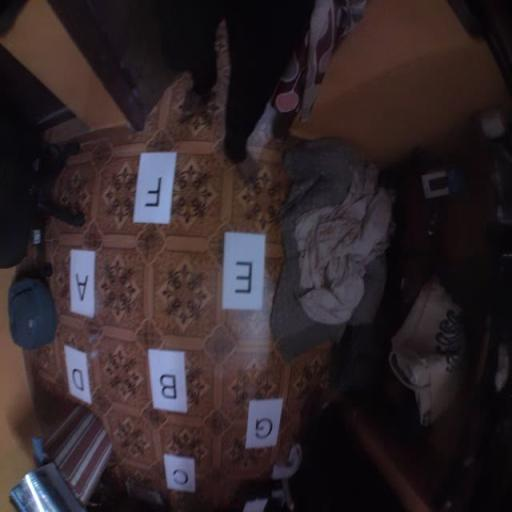A: (70, 248, 96, 319)
B: (148, 348, 187, 413)
C: (164, 453, 195, 493)
D: (65, 344, 92, 406)
E: (222, 232, 266, 312)
F: (133, 153, 176, 225)
G: (246, 398, 283, 449)
